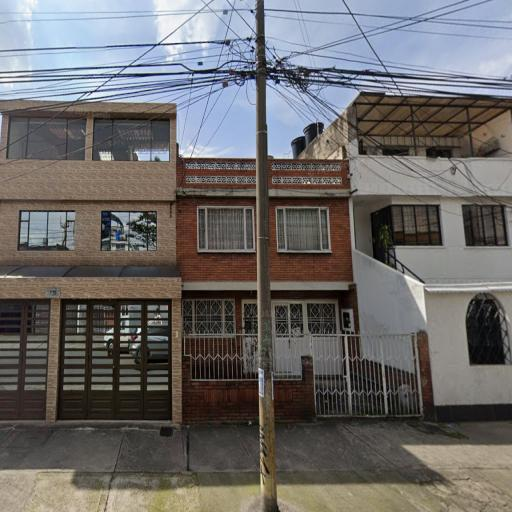Casa: (0, 96, 187, 435), (347, 89, 511, 428), (173, 140, 356, 428)
postes: (249, 0, 282, 512)
